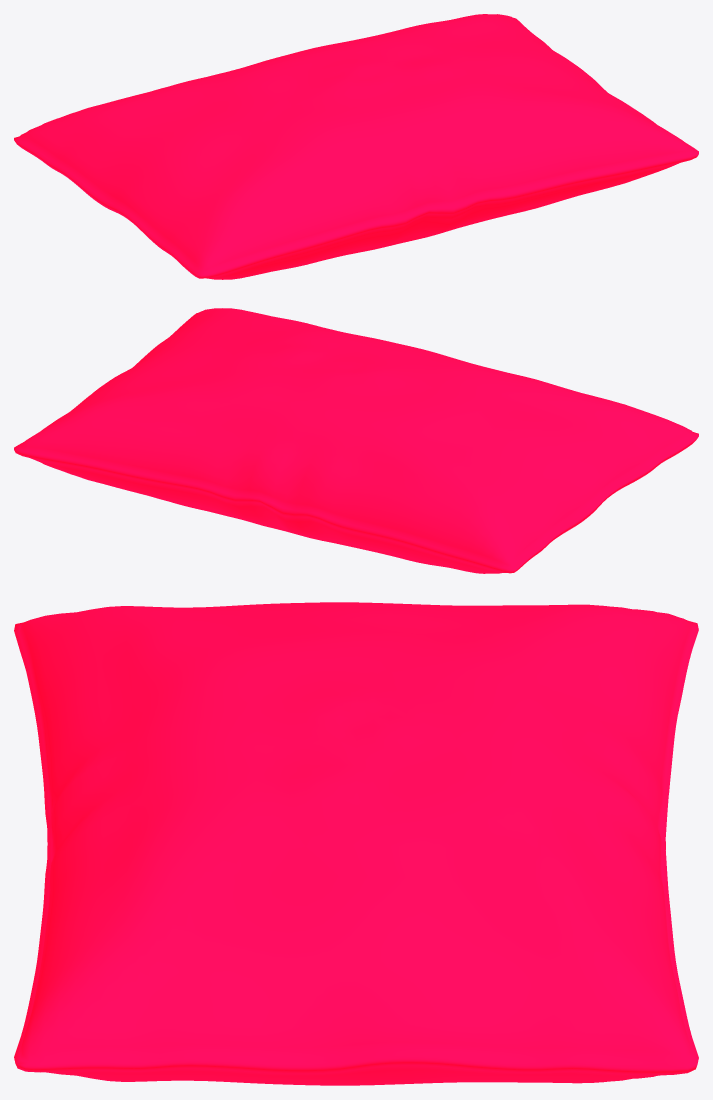
The model's file is 赤まくら.fbx.
3 views of the same model, one above another, from view 1: azimuth 30°, elevation 25°; view 2: azimuth 150°, elevation 25°; view 3: azimuth 270°, elevation 25° (orthographic). The views are drawn at different scales.
Parts seen in each view (by area): view 1: 平面; view 2: 平面; view 3: 平面.
Part boxes in pixels (x1,y1,x2,y2): 平面: (14, 14, 698, 279); 平面: (14, 308, 698, 573); 平面: (14, 602, 698, 1085).
Size of the model in its own units: 256 by 65.74 by 166.
